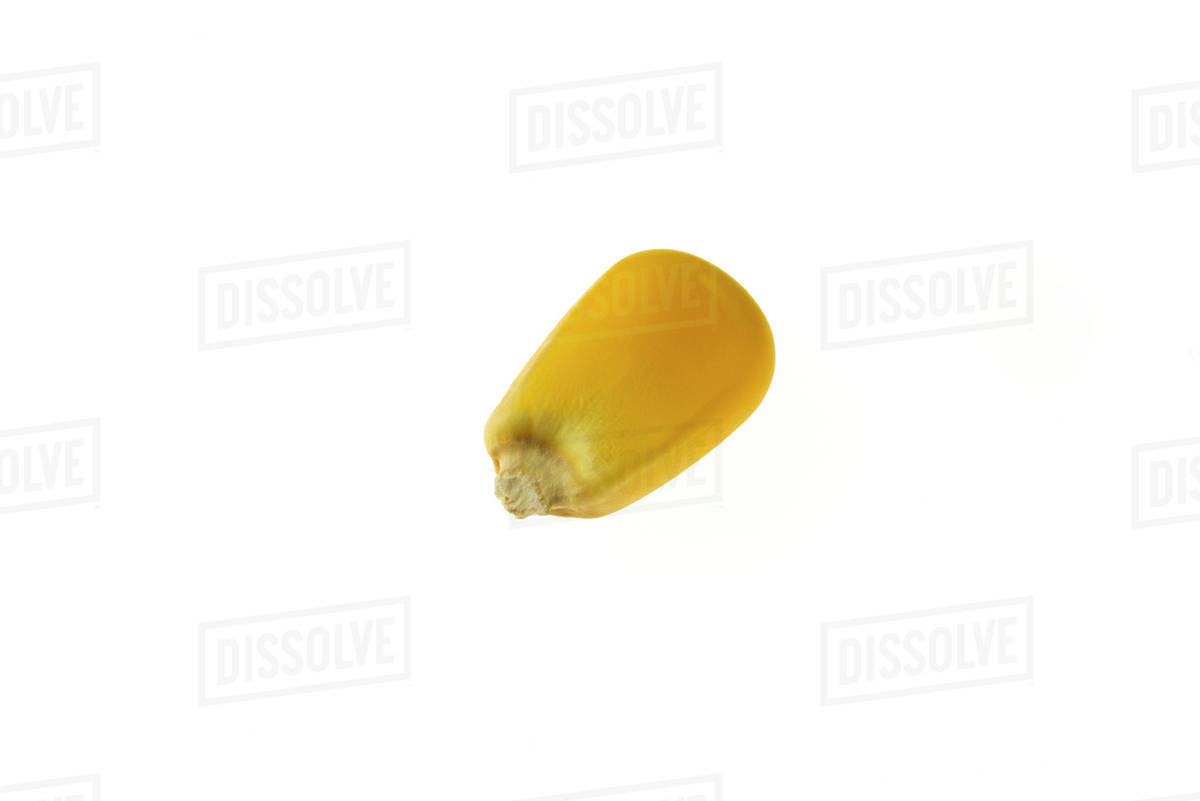corn: (490, 245, 784, 517)
